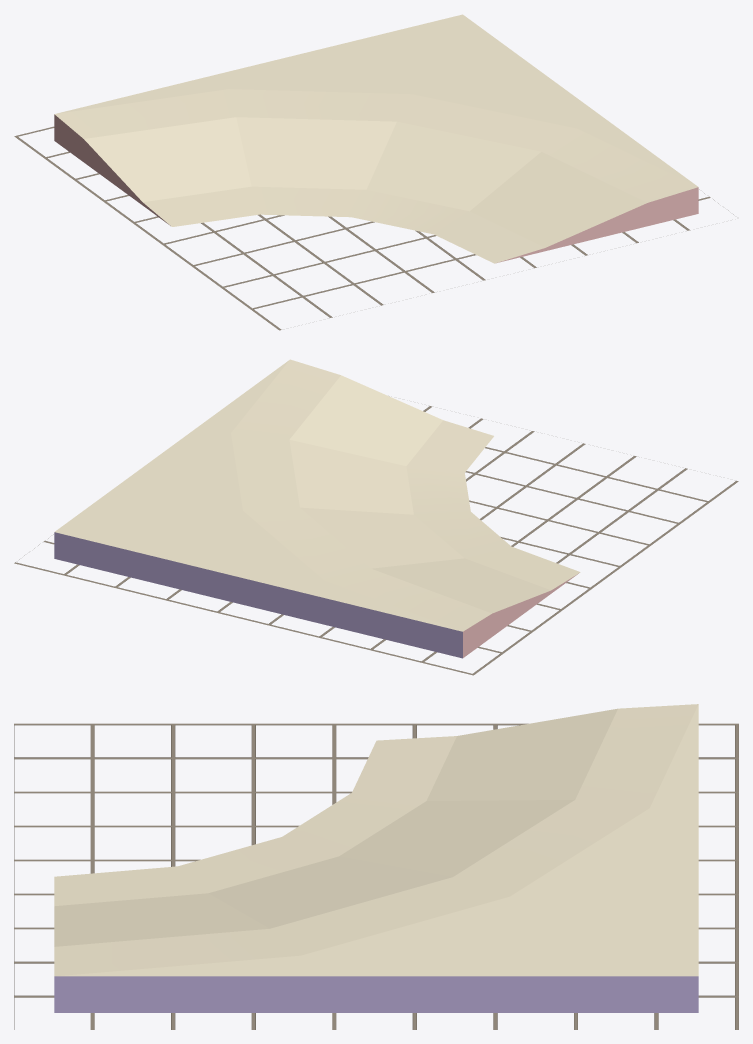
The model's file is Terrain_Sand_Incline_Curve_Inner_8x8.glb.
3 renders of one model, top to bottom at view 1: azimuth 30°, elevation 25°; view 2: azimuth 150°, elevation 25°; view 3: azimuth 270°, elevation 25°, orthographic. The views are drawn at different scales.
Parts seen in each view (by area): view 1: Terrain_Sand_Incline_Curve_Inner_8x8, Floor; view 2: Terrain_Sand_Incline_Curve_Inner_8x8, Floor; view 3: Terrain_Sand_Incline_Curve_Inner_8x8, Floor.
Part boxes in pixels (x1=…): Terrain_Sand_Incline_Curve_Inner_8x8: x1=54, y1=14, x2=698, y2=263; Floor: x1=14, y1=126, x2=733, y2=330; Terrain_Sand_Incline_Curve_Inner_8x8: x1=54, y1=359, x2=580, y2=658; Floor: x1=14, y1=406, x2=738, y2=675; Terrain_Sand_Incline_Curve_Inner_8x8: x1=54, y1=704, x2=698, y2=1012; Floor: x1=14, y1=723, x2=738, y2=1029.
Bounding box in the file's own units: 900 × 50 × 900.
5 materials, 1 textured.
